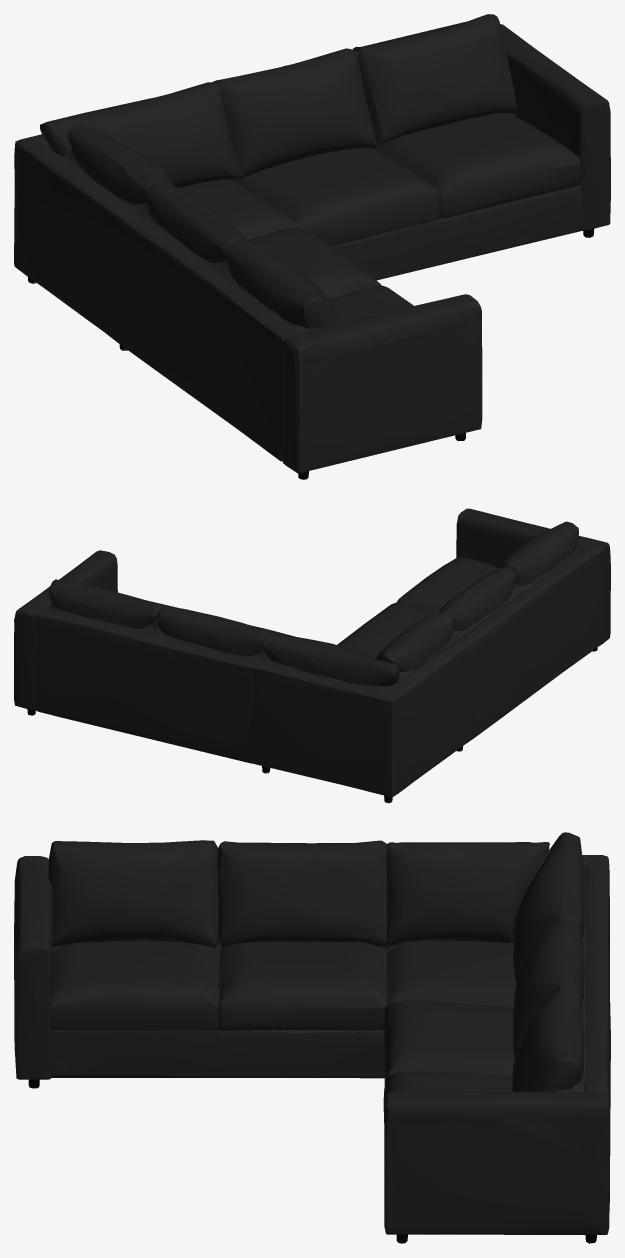
The picture shows the model from 3 angles, top to bottom: view 1: azimuth 30°, elevation 25°; view 2: azimuth 150°, elevation 25°; view 3: azimuth 270°, elevation 25°; orthographic projection. The views are drawn at different scales.
Visible parts, largest first — view 1: ProcessedMeshNode; view 2: ProcessedMeshNode; view 3: ProcessedMeshNode.
Boxes of the visible parts, x1,y1,x2,y2 form: ProcessedMeshNode: (14,14,610,479); ProcessedMeshNode: (14,508,610,803); ProcessedMeshNode: (14,832,610,1243).
Size of the model in its own units: 2.48 by 0.8106 by 2.48.
1 material, 1 textured.
